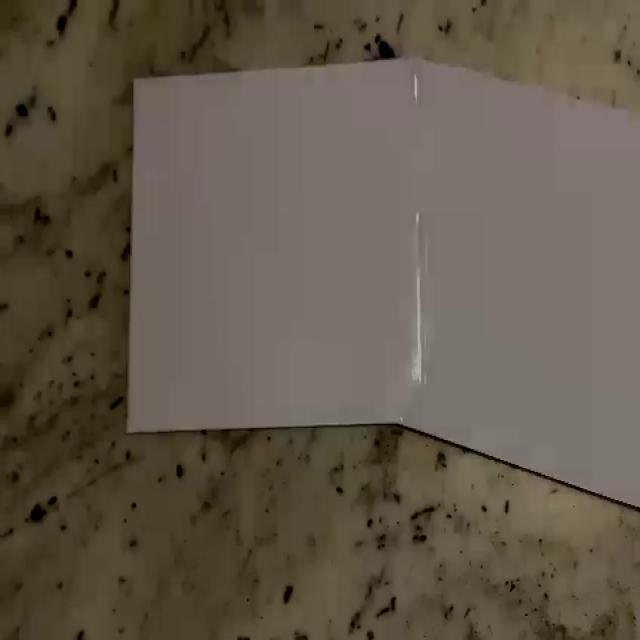road: (125, 59, 640, 509)
